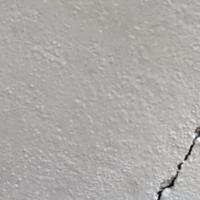crack: (147, 124, 199, 199)
